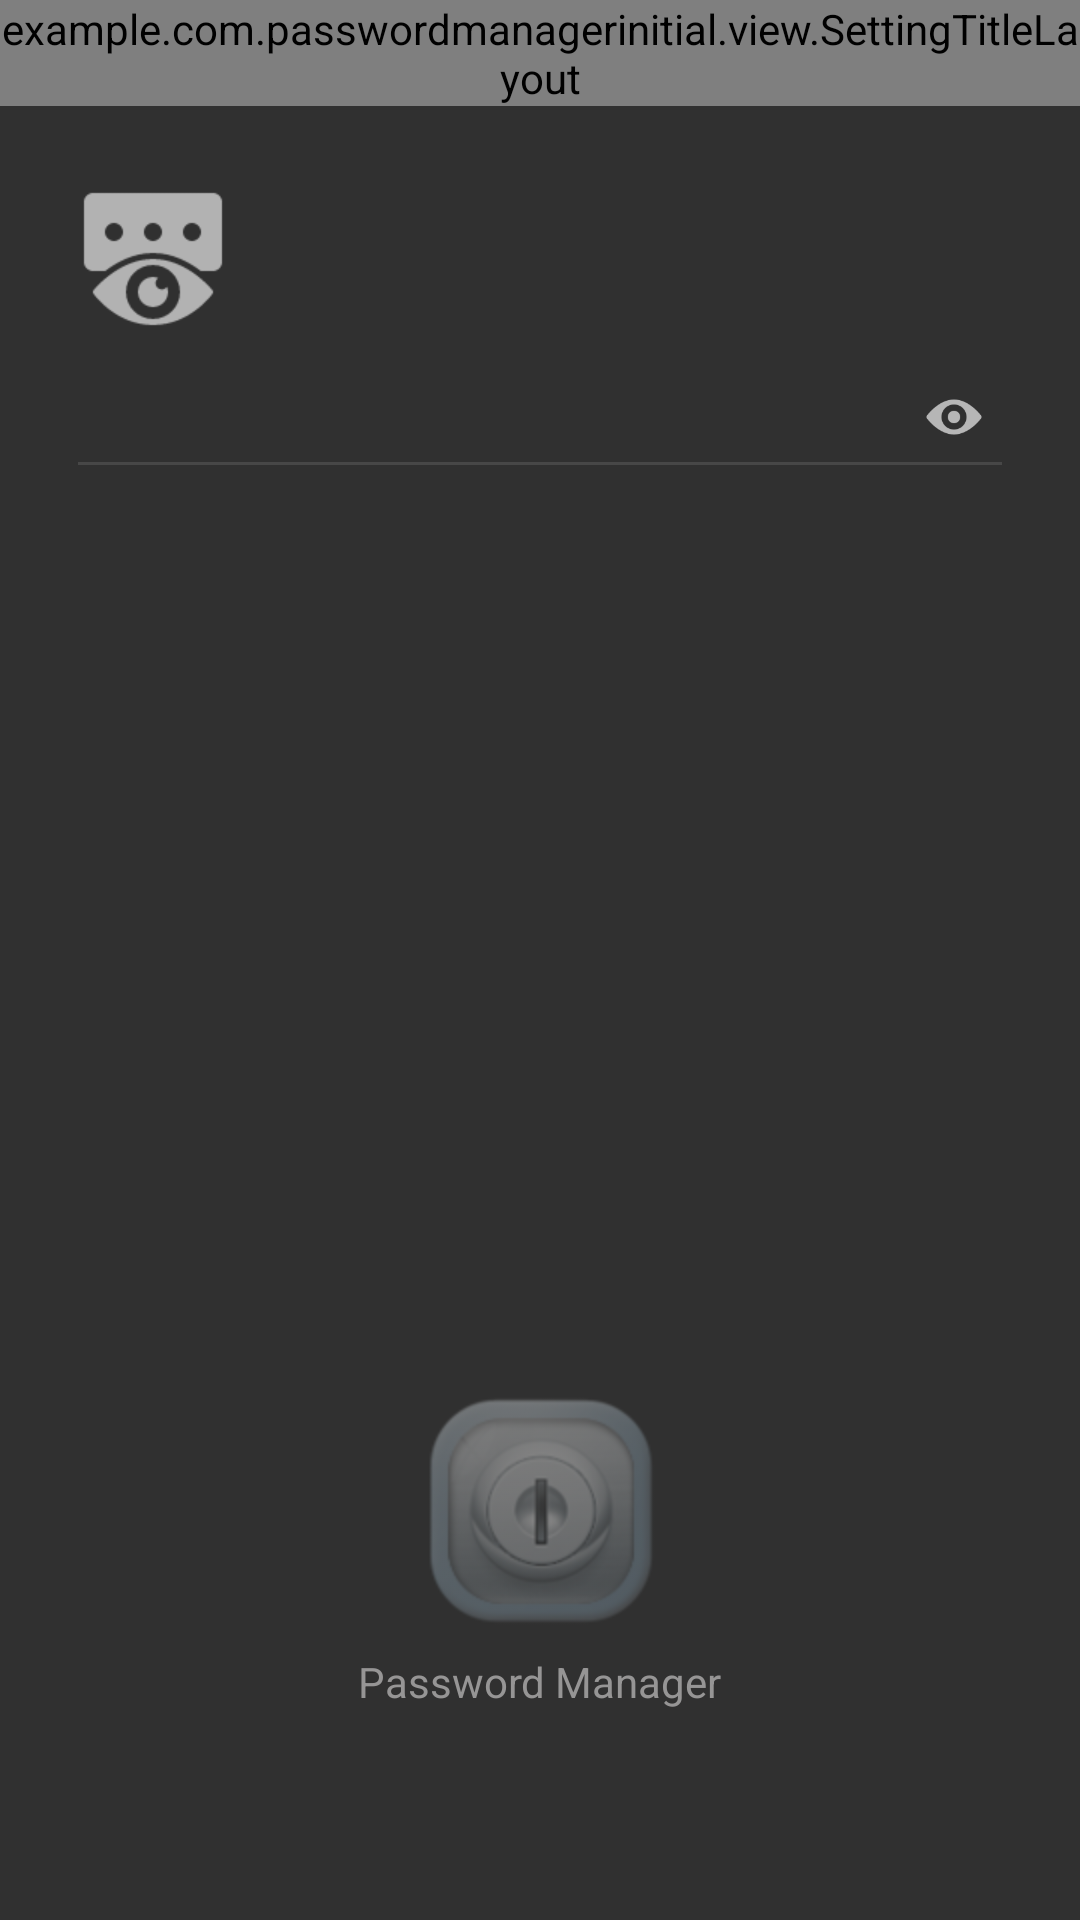

Named icons in this screenshot (1080w x 1920h) and their bounding boxes, (x1, y1, x2, y2):
eye: (926, 399, 982, 435)
